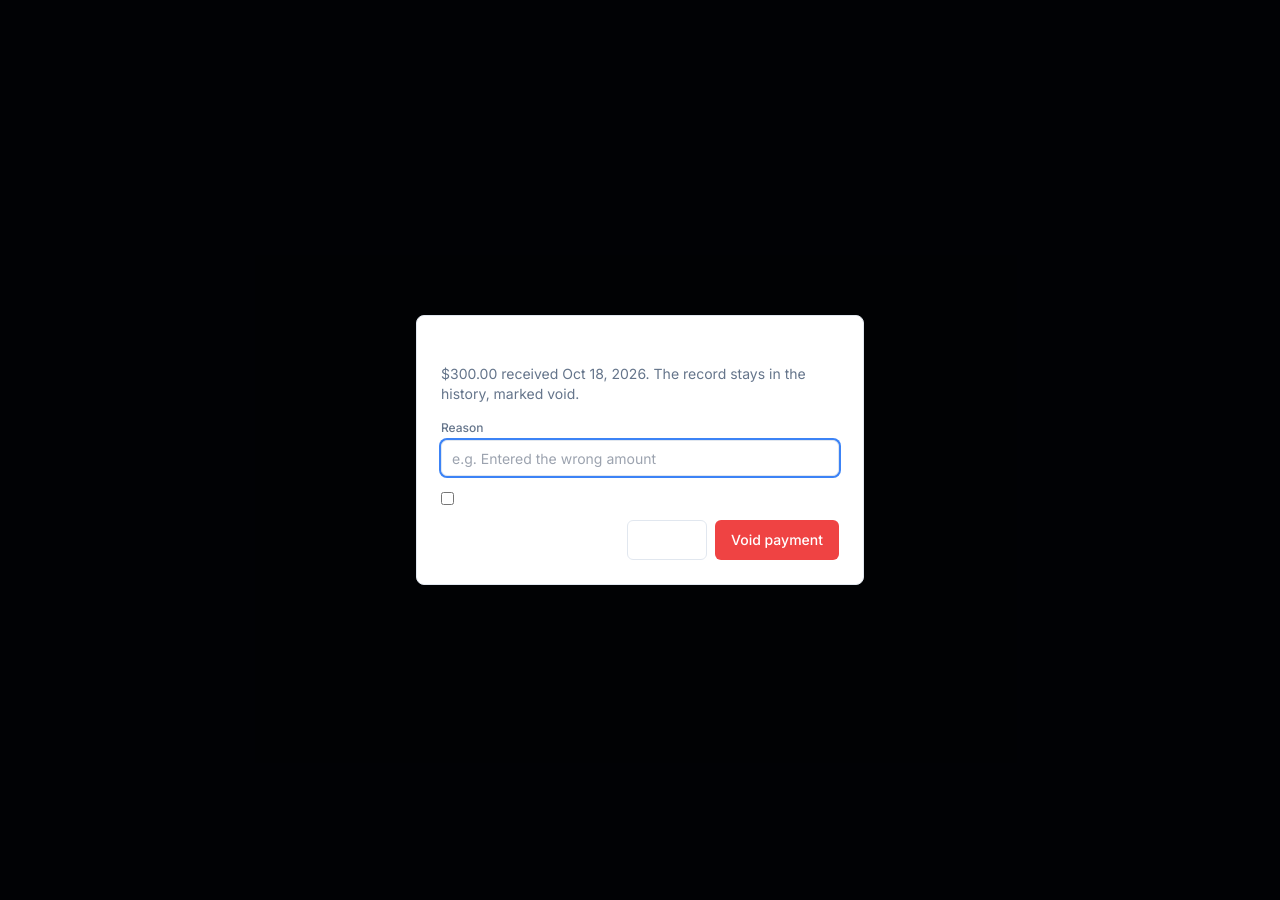
it: receipt corrections › a stale revision is explained and the dialog stays open
Type "Wrong amount" into the field labelled "Reason" at (640, 458), box [441,440,839,476]
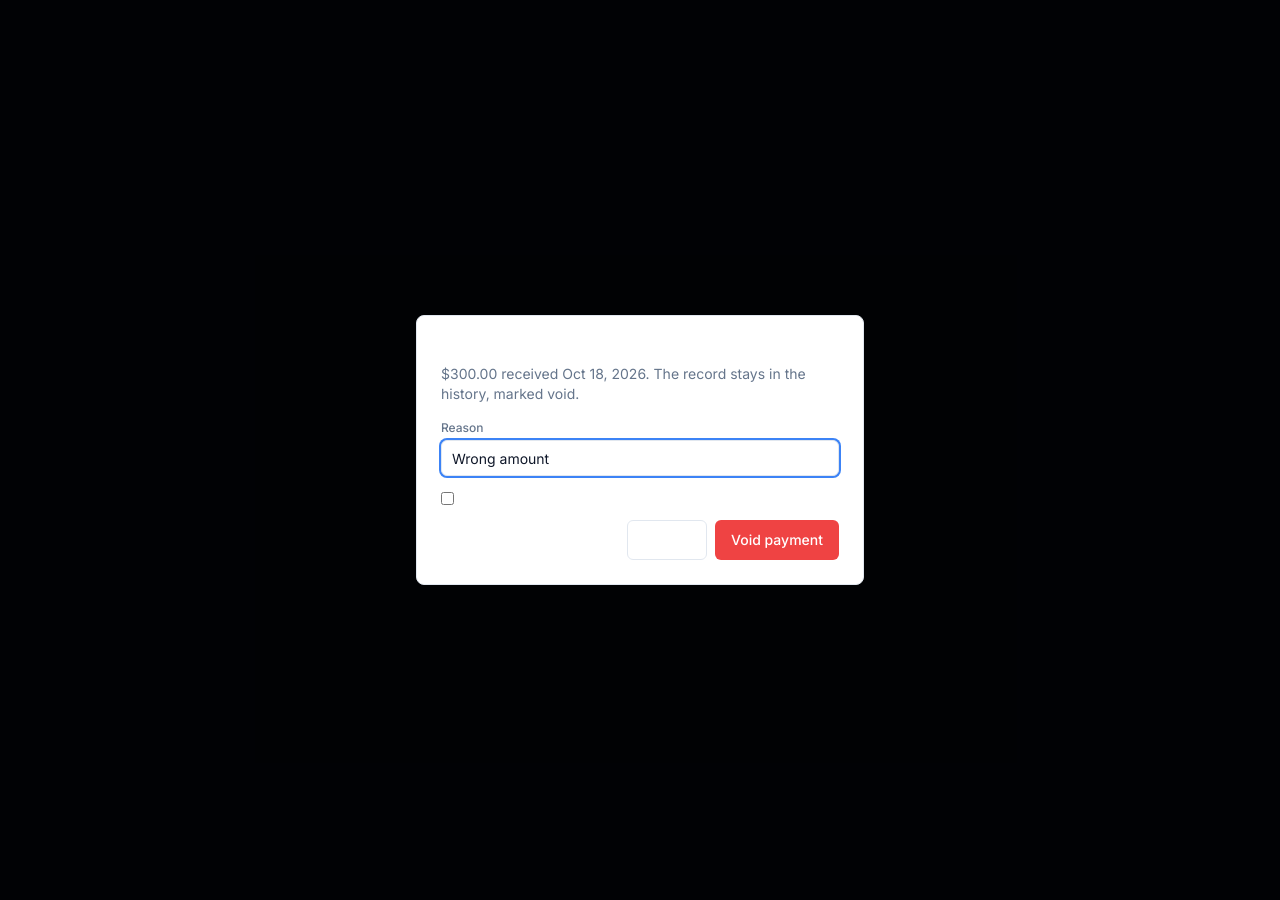
Click the button "Void payment" at (777, 540), box [715,520,839,560]
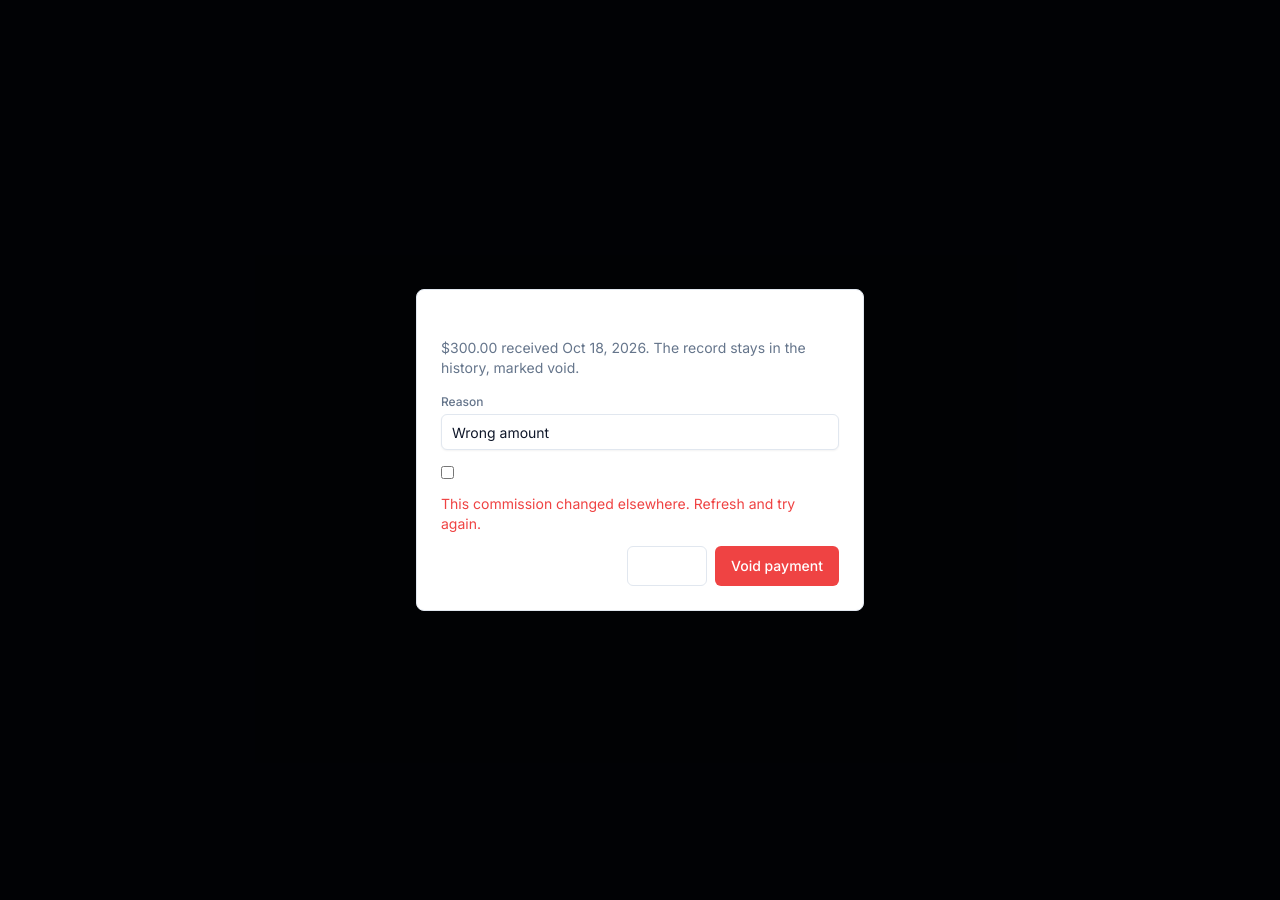
Check: the message reads "This commission changed elsewhere. Refresh and try again.", box [441,495,795,532]
